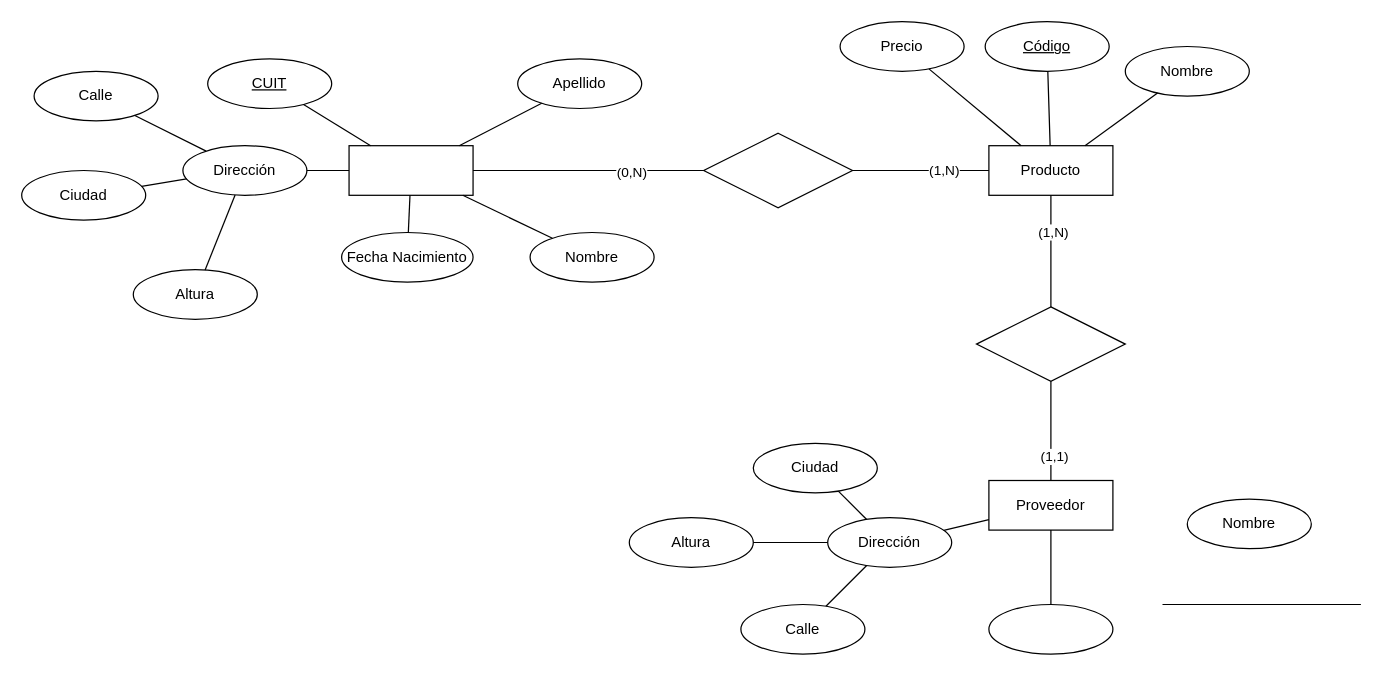
Image size: 1384x676. Some labels were removed from this diagram. Here are the shapes that lost their labels. From the top down, the box of each, then its label:
(348, 144, 473, 195): Cliente
(702, 132, 852, 208): compra
(975, 306, 1125, 381): suministrado
(988, 603, 1113, 654): ID
